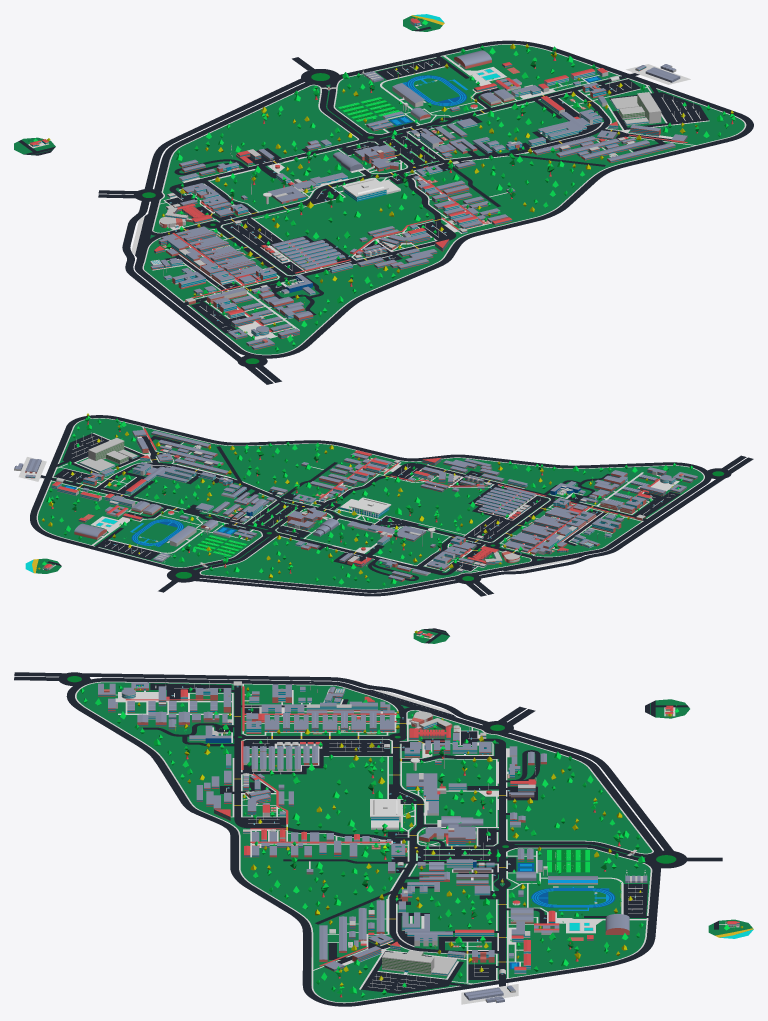
The model's file is cmjp.glb.
3 renders of one model, top to bottom at view 1: azimuth 30°, elevation 25°; view 2: azimuth 150°, elevation 25°; view 3: azimuth 270°, elevation 25°, orthographic. The views are drawn at different scales.
Visible parts, largest first — view 1: cmjpmetre_greenbase, cmjpmepav.015, cmjpmeroa.044, cmjpmeroa.043, cmjpmeroa.005, cmjpmepar.009, cmjpmebui.064, cmjpmepar.024, cmjpmeroa.032, cmjpmebui, cmjpmeroa.034, cmjpmebui.001 (+5 smaller); view 2: cmjpmetre_greenbase, cmjpmepav.015, cmjpmeroa.044, cmjpmeroa.043, cmjpmebui.064, cmjpmeroa.005, cmjpmepar.009, cmjpmeroa.032, cmjpmeroa.034, cmjpmebui, cmjpmepar.024, cmjpmebui.001 (+5 smaller); view 3: cmjpmetre_greenbase, cmjpmepav.015, cmjpmeroa.044, cmjpmeroa.043, cmjpmeroa.005, cmjpmebui.064, cmjpmepar.009, cmjpmepar.024, cmjpmeroa.032, cmjpmeroa.008, cmjpmecon.026, cmjpmeroa.034 (+5 smaller).
Boxes of the visible parts, bbox=[...] form: cmjpmetre_greenbase: bbox=[144, 44, 744, 354]; cmjpmepav.015: bbox=[142, 44, 746, 355]; cmjpmeroa.044: bbox=[134, 40, 753, 358]; cmjpmeroa.043: bbox=[122, 78, 303, 361]; cmjpmeroa.005: bbox=[170, 129, 600, 233]; cmjpmepar.009: bbox=[222, 218, 304, 275]; cmjpmebui.064: bbox=[610, 92, 661, 125]; cmjpmepar.024: bbox=[650, 92, 707, 122]; cmjpmeroa.032: bbox=[317, 83, 381, 141]; cmjpmebui: bbox=[341, 178, 400, 201]; cmjpmeroa.034: bbox=[380, 76, 627, 137]; cmjpmebui.001: bbox=[354, 144, 398, 171]; cmjpmetre_greenbase: bbox=[38, 418, 703, 589]; cmjpmepav.015: bbox=[36, 418, 704, 589]; cmjpmeroa.044: bbox=[30, 415, 711, 592]; cmjpmeroa.043: bbox=[195, 478, 724, 596]; cmjpmebui.064: bbox=[79, 438, 137, 472]; cmjpmeroa.005: bbox=[157, 463, 525, 556]; cmjpmepar.009: bbox=[465, 496, 548, 541]; cmjpmeroa.032: bbox=[187, 529, 277, 572]; cmjpmeroa.034: bbox=[51, 477, 265, 530]; cmjpmebui: bbox=[340, 497, 391, 517]; cmjpmepar.024: bbox=[62, 434, 106, 463]; cmjpmebui.001: bbox=[287, 507, 327, 530]; cmjpmetre_greenbase: bbox=[76, 682, 652, 1002]; cmjpmepav.015: bbox=[75, 681, 653, 1003]; cmjpmeroa.044: bbox=[66, 678, 662, 1006]; cmjpmeroa.043: bbox=[83, 673, 673, 850]; cmjpmeroa.005: bbox=[389, 716, 423, 940]; cmjpmebui.064: bbox=[382, 950, 457, 976]; cmjpmepar.009: bbox=[243, 740, 390, 755]; cmjpmepar.024: bbox=[366, 972, 451, 993]; cmjpmeroa.032: bbox=[494, 841, 649, 860]; cmjpmeroa.008: bbox=[233, 685, 245, 826]; cmjpmecon.026: bbox=[531, 886, 615, 910]; cmjpmeroa.034: bbox=[494, 850, 510, 980].
Size of the model in its own units: 19.16 by 0.5615 by 17.91.
